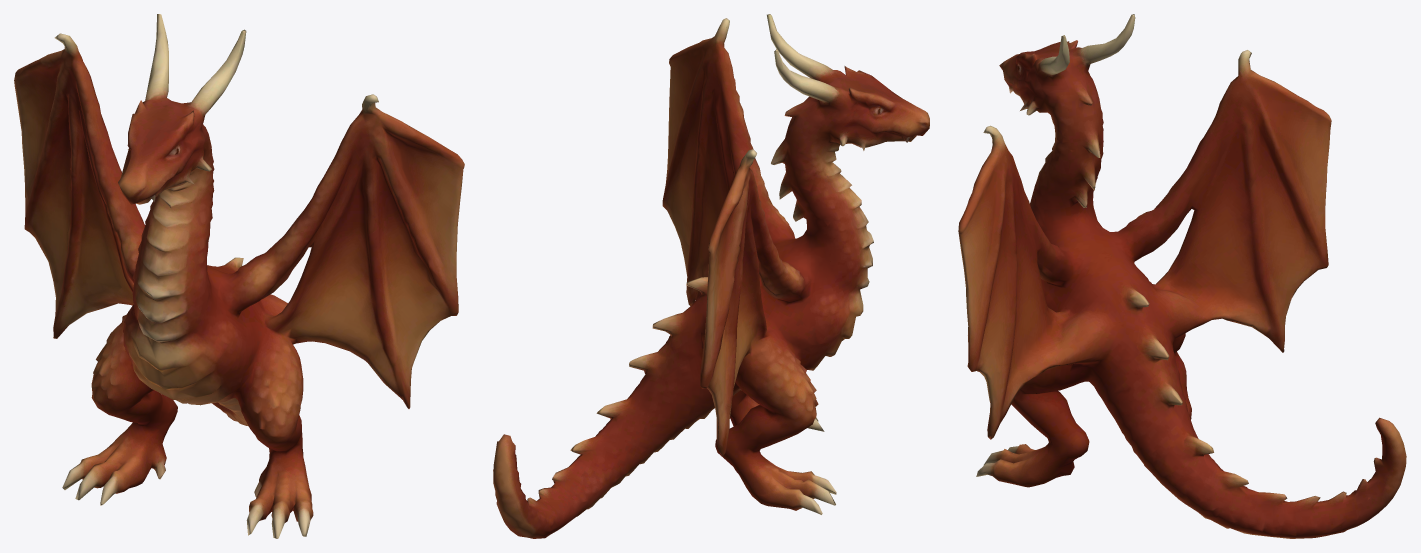
Rendered from source.glb.
3 renders of one model, left to right at view 1: azimuth 30°, elevation 25°; view 2: azimuth 150°, elevation 25°; view 3: azimuth 270°, elevation 25°, orthographic. The views are drawn at different scales.
Parts seen in each view (by area): view 1: tripo_node_cff96f21-5d34-4fe9-af3e-5eea2f24f598; view 2: tripo_node_cff96f21-5d34-4fe9-af3e-5eea2f24f598; view 3: tripo_node_cff96f21-5d34-4fe9-af3e-5eea2f24f598.
Boxes of the visible parts, <box> form: tripo_node_cff96f21-5d34-4fe9-af3e-5eea2f24f598: <box>14,14,464,538</box>; tripo_node_cff96f21-5d34-4fe9-af3e-5eea2f24f598: <box>493,14,929,538</box>; tripo_node_cff96f21-5d34-4fe9-af3e-5eea2f24f598: <box>958,14,1406,538</box>.
Size of the model in its own units: 0.7274 by 1.09 by 0.9775.
1 material, 1 textured.
